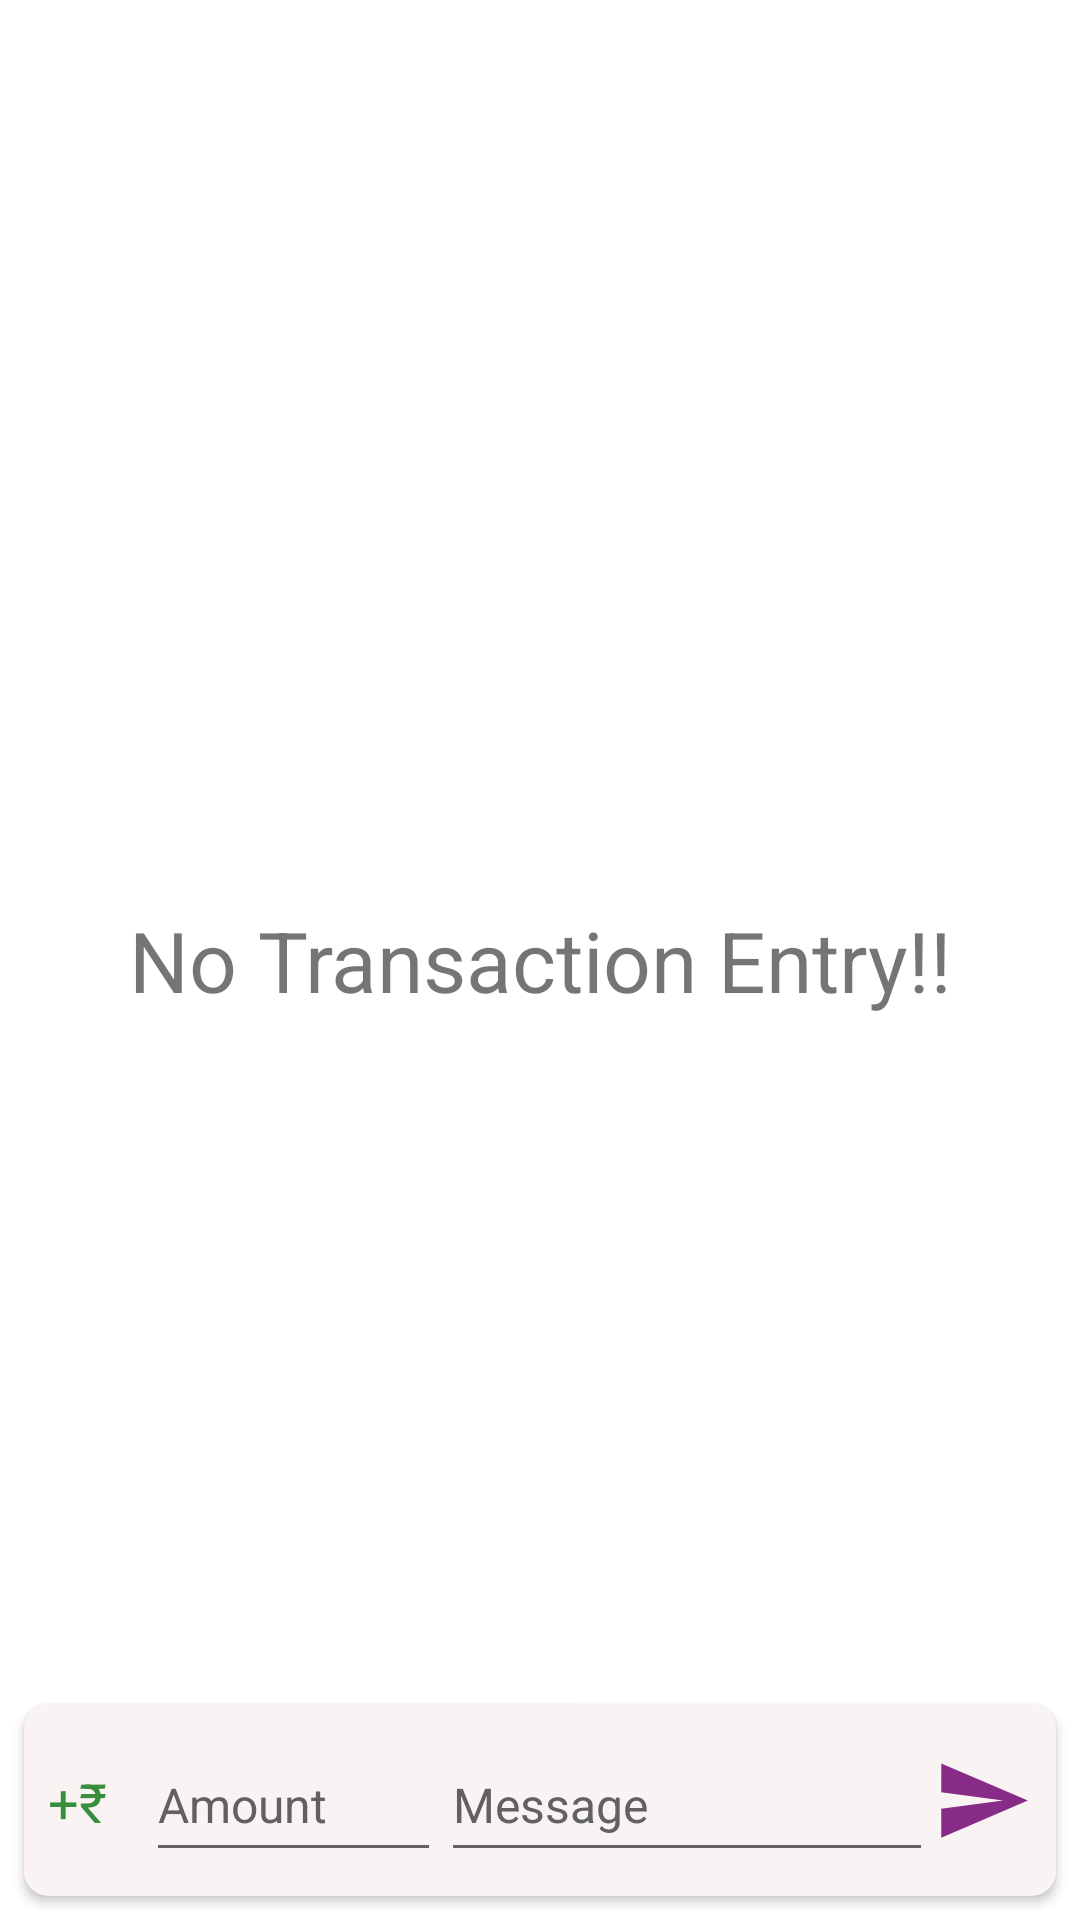

Where to tap for icons on this 1080 x 1920 app screen, as (x,y):
send: (984,1800)
